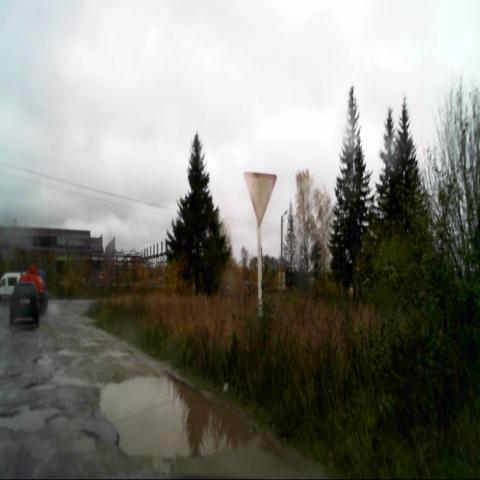2_4: (242, 171, 278, 226)
